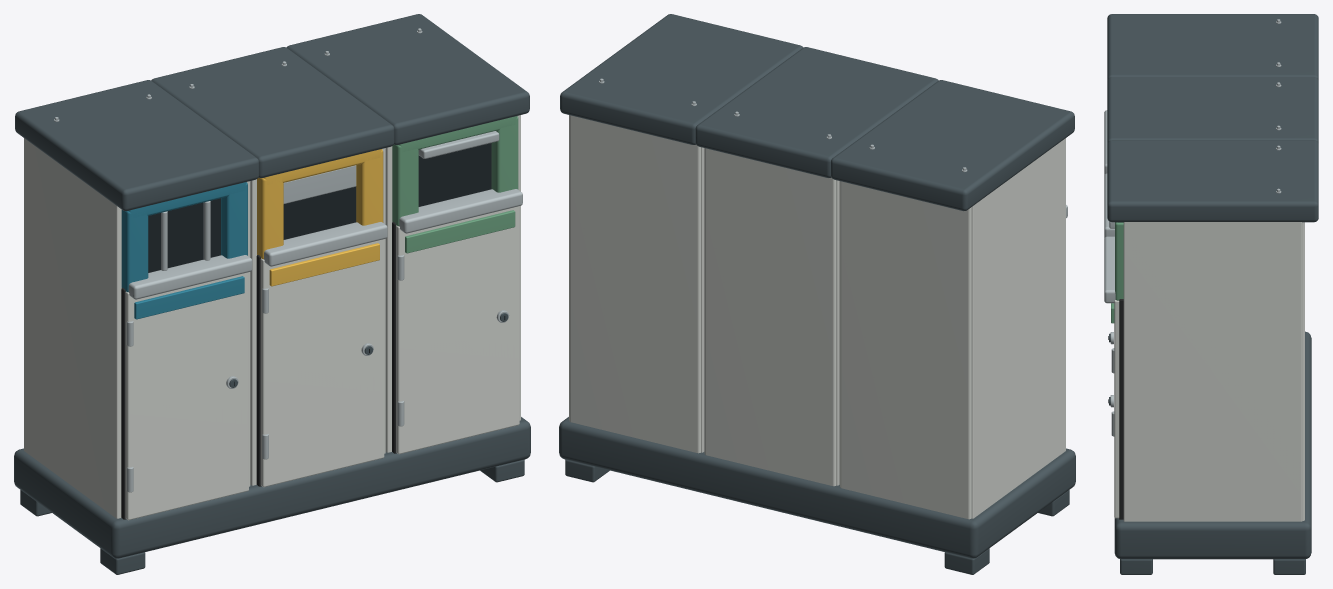
The model's file is city-recycling-station.glb.
3 renders of one model, left to right at view 1: azimuth 30°, elevation 25°; view 2: azimuth 150°, elevation 25°; view 3: azimuth 270°, elevation 25°, orthographic. The views are drawn at different scales.
Visible parts, largest first — view 1: Compartment vertical return, Stream 1 service door folded metal panel, Stream 0 service door folded metal panel, Stream 2 service door folded metal panel, Shared raised plinth, Rain cap, Rain cap.001, Rain cap.002, Stream 0 inner dark liner, Stream 2 inner dark liner, Opening bottom lip.001, Opening bottom lip.002 (+25 smaller); view 2: Stream 0 rear cabinet, Stream 1 rear cabinet, Stream 2 rear cabinet, Compartment vertical return, Shared raised plinth, Rain cap, Rain cap.001, Rain cap.002, Compartment vertical return.002, Compartment vertical return.004, Ground anchor foot.001; view 3: Compartment vertical return.005, Rain cap.002, Rain cap, Rain cap.001, Shared raised plinth, Stream 2 service door folded metal panel, Stream 2 service door inset seal, Stream 2 rear cabinet, Opening bottom lip.002, Opening right cheek.002, Ground anchor foot.003, Ground anchor foot.002 (+1 smaller).
Part boxes in pixels (x1,y1,x2,y2): Compartment vertical return: (24,138,121,518); Stream 1 service door folded metal panel: (260,239,384,487); Stream 0 service door folded metal panel: (125,272,248,520); Stream 2 service door folded metal panel: (396,206,519,454); Shared raised plinth: (14,417,530,558); Rain cap: (15,80,258,211); Rain cap.001: (151,47,394,177); Rain cap.002: (286,14,529,144); Stream 0 inner dark liner: (148,198,220,272); Stream 2 inner dark liner: (418,143,491,206); Opening bottom lip.001: (264,222,387,266); Opening bottom lip.002: (399,189,522,233); Stream 0 rear cabinet: (840,181,971,519); Stream 1 rear cabinet: (705,148,836,486); Stream 2 rear cabinet: (569,115,700,453); Compartment vertical return: (971,138,1065,518); Shared raised plinth: (559,417,1075,558); Rain cap: (831,80,1074,211); Rain cap.001: (695,47,938,177); Rain cap.002: (560,14,803,144); Compartment vertical return.002: (836,180,839,485); Compartment vertical return.004: (701,147,704,452); Ground anchor foot.001: (944,548,989,574); Compartment vertical return.005: (1123,222,1302,521); Rain cap.002: (1107,140,1318,222); Rain cap: (1107,14,1318,80); Rain cap.001: (1107,77,1318,143); Shared raised plinth: (1114,331,1311,559); Stream 2 service door folded metal panel: (1114,300,1119,518); Stream 2 service door inset seal: (1119,299,1123,519); Stream 2 rear cabinet: (1302,222,1304,520); Opening bottom lip.002: (1104,236,1115,303); Opening right cheek.002: (1115,222,1123,300); Ground anchor foot.003: (1273,559,1305,574); Ground anchor foot.002: (1120,559,1152,574).
Size of the model in its own units: 1.27 by 1.14 by 0.5885.
